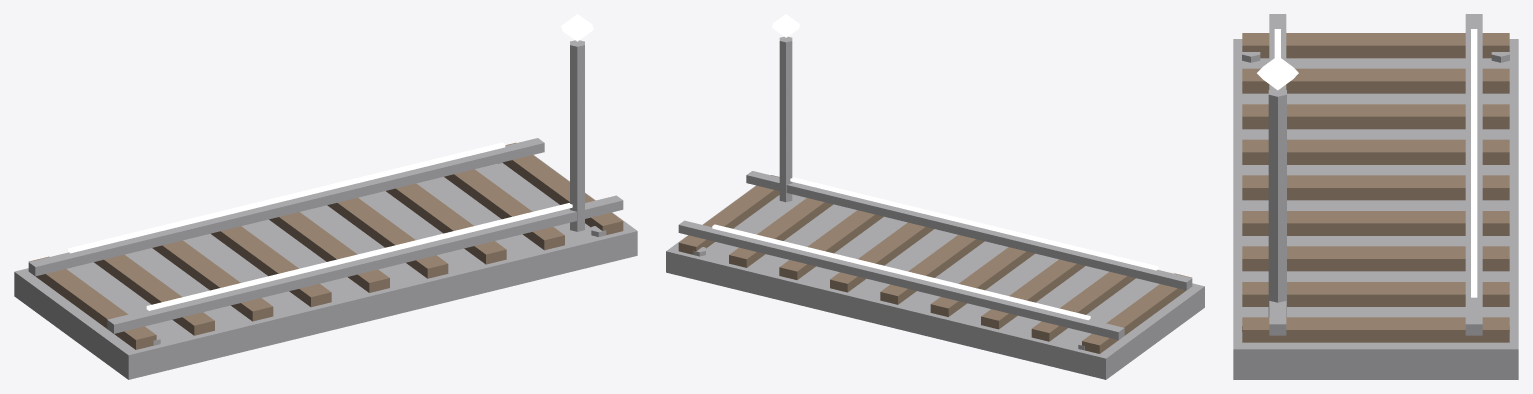
File: rail_track_epic.glb
The picture shows the model from 3 angles, left to right: view 1: azimuth 30°, elevation 25°; view 2: azimuth 150°, elevation 25°; view 3: azimuth 270°, elevation 25°; orthographic projection. The views are drawn at different scales.
Parts seen in each view (by area): view 1: rail_track; view 2: rail_track; view 3: rail_track.
Part boxes in pixels (x1,y1,x2,y2): rail_track: (14,14,637,379); rail_track: (666,14,1204,379); rail_track: (1233,14,1518,379).
Bounding box in the file's own units: 3.46 × 1.55 × 1.34.
